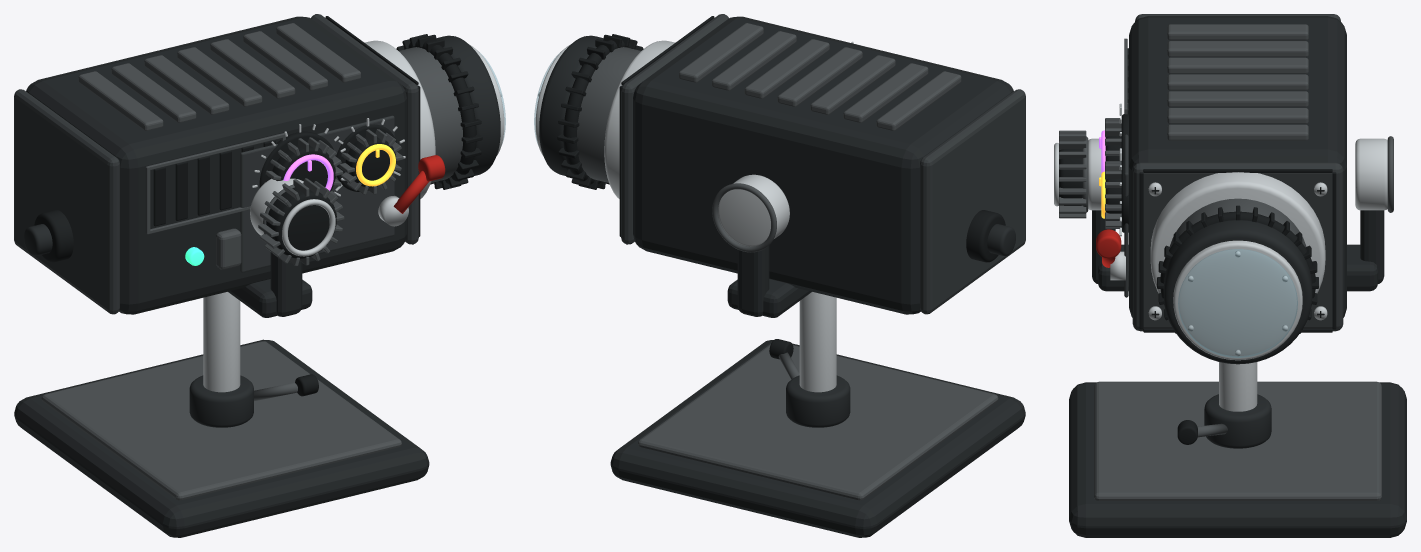
Rendered from photoelectric-light-source.glb.
3 renders of one model, left to right at view 1: azimuth 30°, elevation 25°; view 2: azimuth 150°, elevation 25°; view 3: azimuth 270°, elevation 25°, orthographic. The views are drawn at different scales.
Parts seen in each view (by area): view 1: LightSource_Housing, Stand_Base_Inset, LightSource_Stand_Base, LightSource_Rear_Panel, Control_Panel_Insert, Stand_Post, Collimator_Barrel, Aperture_Bezel, LightSource_Front_Panel, Stand_Post_Collar, Tilt_Lock_Dial, Focus_Ring_Grip_Texture (+31 smaller); view 2: LightSource_Housing, Stand_Base_Inset, LightSource_Stand_Base, LightSource_Rear_Panel, Collimator_Barrel, Stand_Post, Yoke_Rear_Pivot, Aperture_Bezel, LightSource_Front_Panel, Stand_Post_Collar, Focus_Ring_Grip_Texture, Collimator_Mount (+13 smaller); view 3: Stand_Base_Inset, LightSource_Stand_Base, LightSource_Housing, Lens_Retaining_Ring, Collimating_Lens, LightSource_Front_Panel, Collimator_Mount, Aperture_Bezel, Stand_Post_Collar, Top_Cooling_Fin_03, Top_Cooling_Fin_04, Top_Cooling_Fin_07 (+26 smaller).
Part boxes in pixels (bbox=[...]): LightSource_Housing: bbox=[26, 16, 406, 314]; Stand_Base_Inset: bbox=[41, 341, 401, 500]; LightSource_Stand_Base: bbox=[14, 339, 429, 537]; LightSource_Rear_Panel: bbox=[14, 89, 119, 314]; Control_Panel_Insert: bbox=[240, 115, 394, 272]; Stand_Post: bbox=[203, 292, 240, 392]; Collimator_Barrel: bbox=[399, 47, 462, 182]; Aperture_Bezel: bbox=[436, 35, 500, 175]; LightSource_Front_Panel: bbox=[311, 14, 418, 244]; Stand_Post_Collar: bbox=[189, 375, 253, 427]; Tilt_Lock_Dial: bbox=[266, 187, 336, 258]; Focus_Ring_Grip_Texture: bbox=[396, 34, 482, 189]; LightSource_Housing: bbox=[633, 16, 1013, 314]; Stand_Base_Inset: bbox=[638, 344, 998, 500]; LightSource_Stand_Base: bbox=[610, 340, 1025, 537]; LightSource_Rear_Panel: bbox=[920, 89, 1025, 314]; Collimator_Barrel: bbox=[577, 47, 640, 182]; Stand_Post: bbox=[799, 292, 836, 392]; Yoke_Rear_Pivot: bbox=[718, 174, 789, 246]; Aperture_Bezel: bbox=[539, 35, 603, 175]; LightSource_Front_Panel: bbox=[621, 14, 728, 244]; Stand_Post_Collar: bbox=[786, 375, 850, 427]; Focus_Ring_Grip_Texture: bbox=[557, 34, 643, 189]; Collimator_Mount: bbox=[604, 40, 674, 198]; Stand_Base_Inset: bbox=[1094, 381, 1381, 500]; LightSource_Stand_Base: bbox=[1069, 382, 1406, 537]; LightSource_Housing: bbox=[1129, 16, 1346, 317]; Lens_Retaining_Ring: bbox=[1173, 240, 1302, 360]; Collimating_Lens: bbox=[1178, 249, 1297, 357]; LightSource_Front_Panel: bbox=[1132, 162, 1343, 331]; Collimator_Mount: bbox=[1150, 172, 1325, 293]; Aperture_Bezel: bbox=[1163, 220, 1312, 364]; Stand_Post_Collar: bbox=[1204, 394, 1271, 448]; Top_Cooling_Fin_03: bbox=[1167, 57, 1308, 73]; Top_Cooling_Fin_04: bbox=[1167, 74, 1308, 90]; Top_Cooling_Fin_07: bbox=[1167, 124, 1308, 140].
Bounding box in the file's own units: 4.55 × 3.66 × 2.95.
